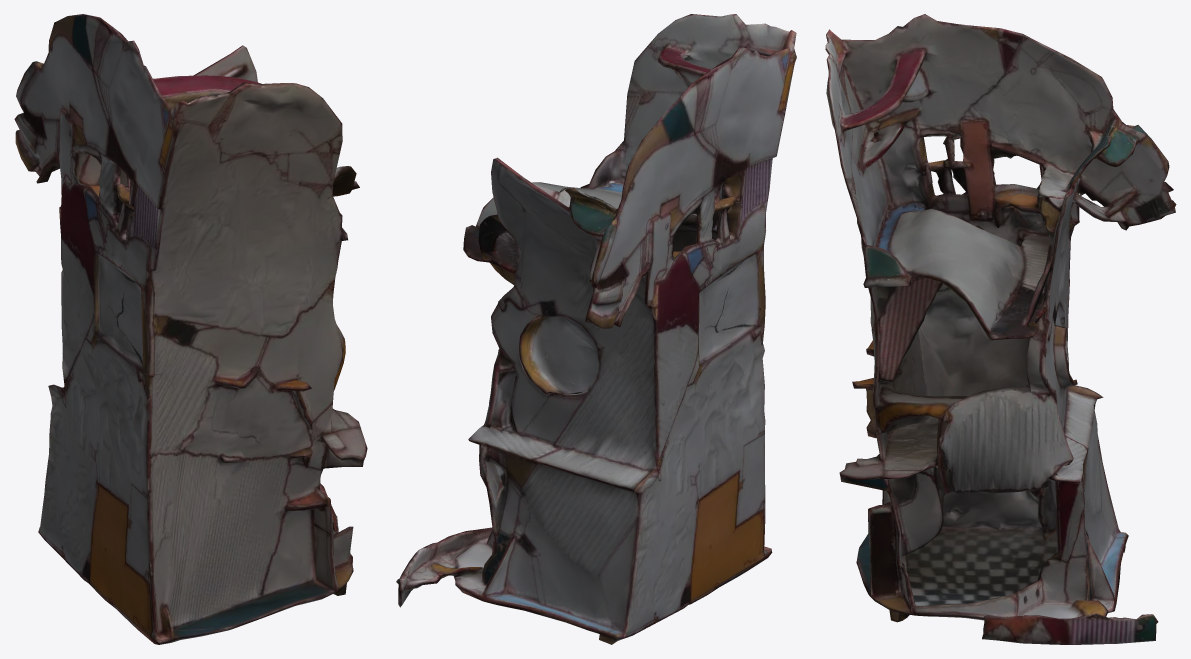
The model's file is jautraisAR-transformed.glb.
3 views of the same model, side by side, from view 1: azimuth 30°, elevation 25°; view 2: azimuth 150°, elevation 25°; view 3: azimuth 270°, elevation 25° (orthographic). The views are drawn at different scales.
Visible parts, largest first — view 1: for Blender; view 2: for Blender; view 3: for Blender.
Boxes of the visible parts, x1=… form: for Blender: x1=14, y1=14, x2=367, y2=644; for Blender: x1=396, y1=14, x2=796, y2=644; for Blender: x1=825, y1=14, x2=1176, y2=644.
Size of the model in its own units: 1.25 by 2.55 by 1.55.
Materials: 1 (1 with a texture image).
